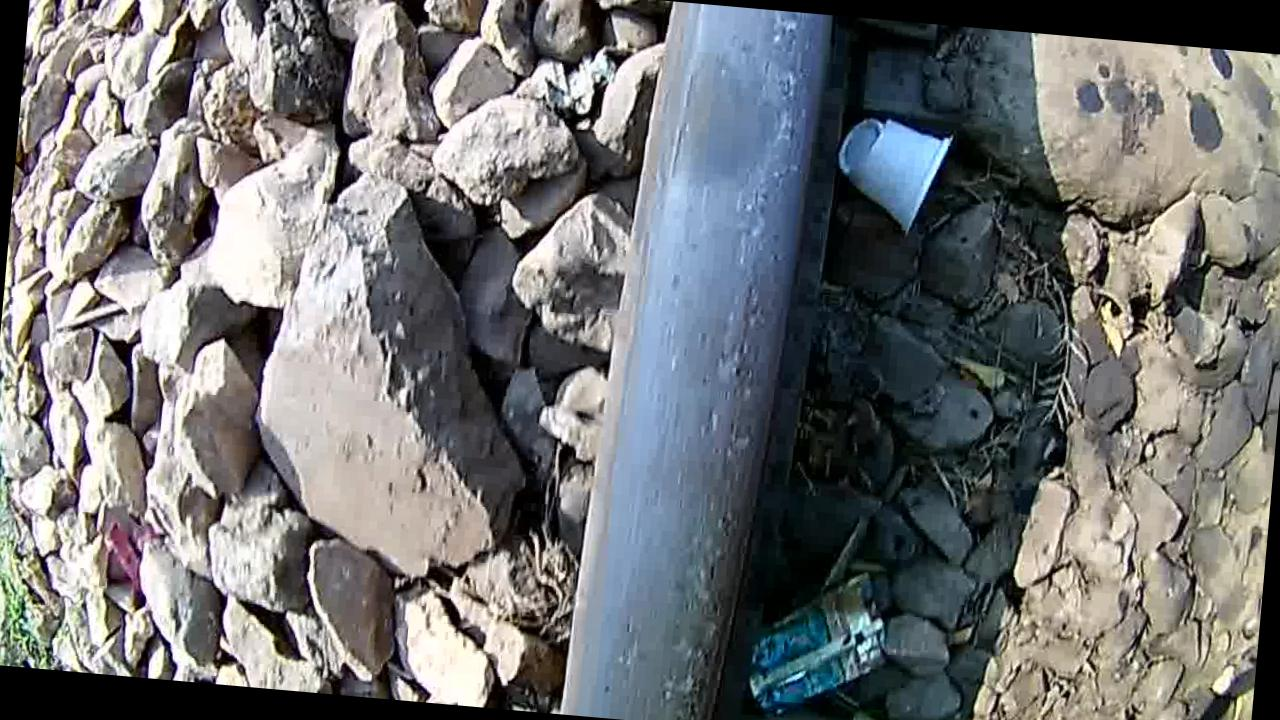bolt_missing: (654, 32, 825, 236)
